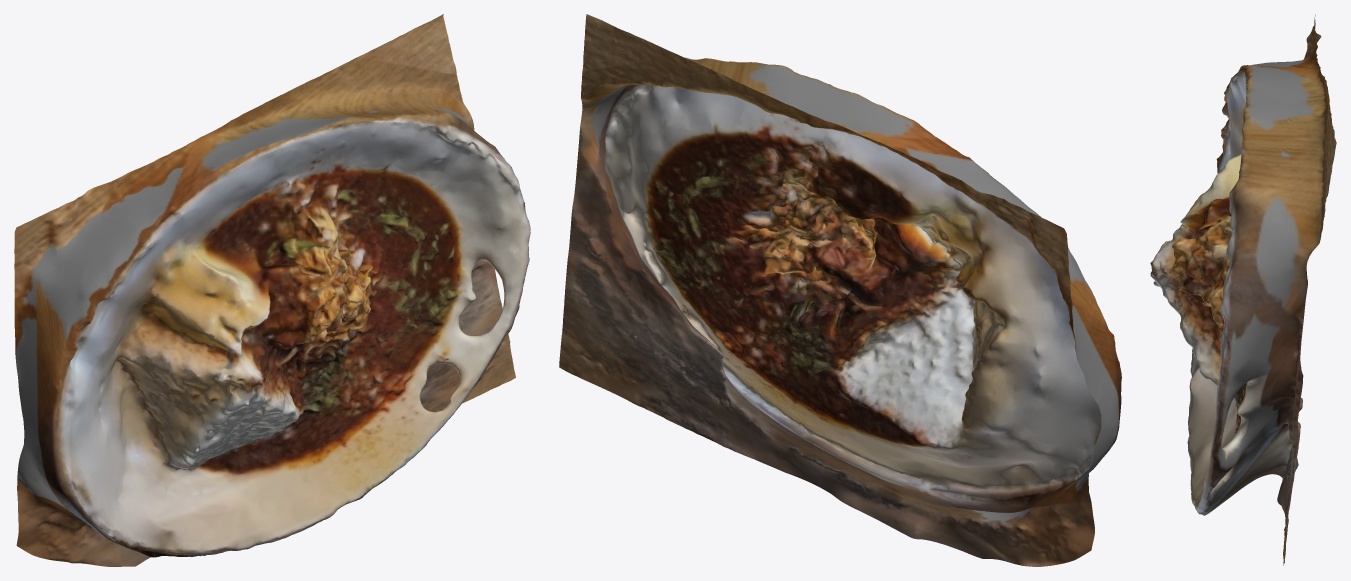
The model's file is land.glb.
3 renders of one model, left to right at view 1: azimuth 30°, elevation 25°; view 2: azimuth 150°, elevation 25°; view 3: azimuth 270°, elevation 25°, orthographic. The views are drawn at different scales.
Bounding box in the file's own units: 38.98 × 33.37 × 11.25.
Materials: 1 (1 with a texture image).
